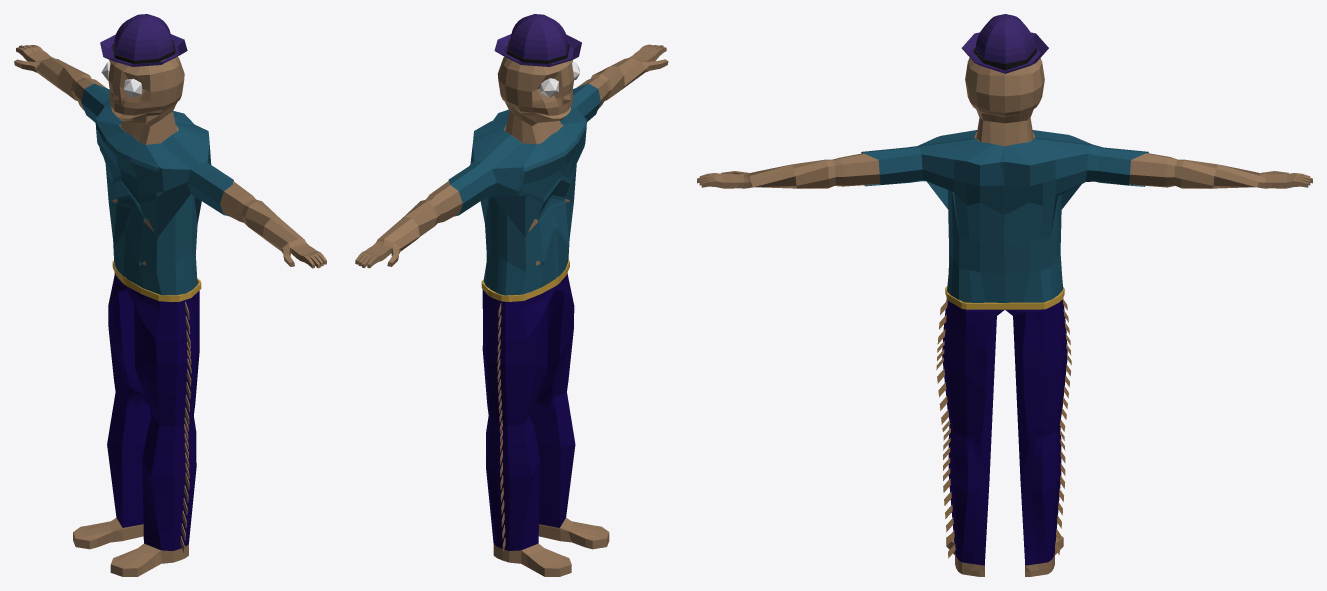
File: wrog_2-ubrany.fbx
The picture shows the model from 3 angles, left to right: view 1: azimuth 30°, elevation 25°; view 2: azimuth 150°, elevation 25°; view 3: azimuth 270°, elevation 25°; orthographic projection. The views are drawn at different scales.
Parts seen in each view (by area): view 1: Cube; view 2: Cube; view 3: Cube.
Part boxes in pixels (<box>): Cube: <box>14,14,326,576</box>; Cube: <box>355,14,668,576</box>; Cube: <box>697,14,1312,576</box>.
Size of the model in its own units: 2.58 by 12.7 by 12.96.
